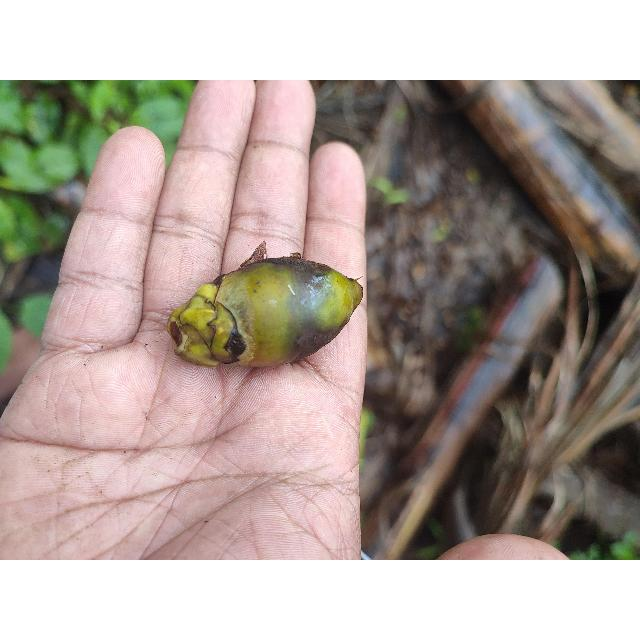damaged: (164, 255, 365, 371)
